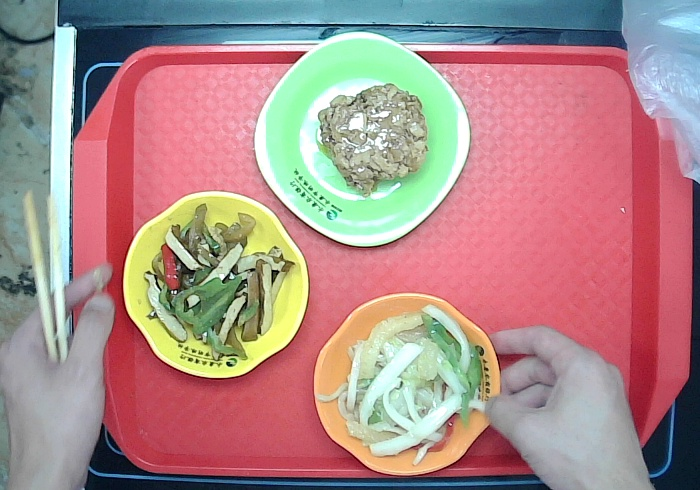YKMZ-Huang_Se_Ao_Bian_Wan: (120, 190, 310, 380)
YKMZ-Ju_Se_Ao_Bian_Wan: (314, 292, 500, 477)
YKMZ-Lv_Se_Fang_Die: (254, 29, 471, 248)
